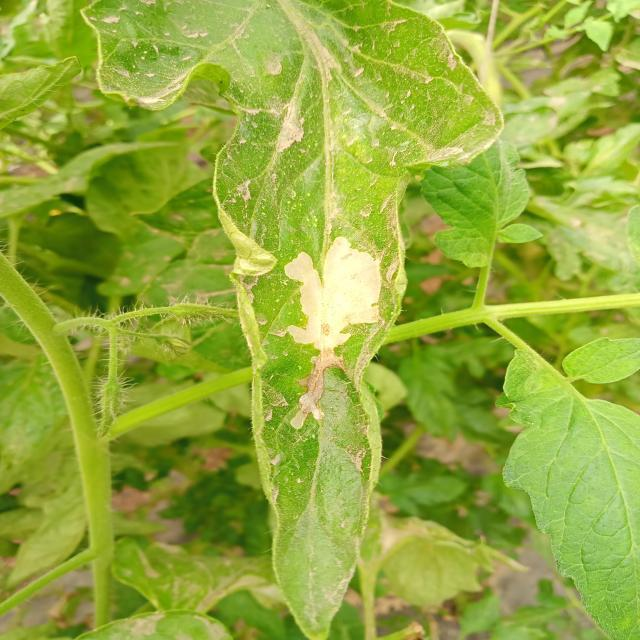Tuta absoluta: (283, 235, 384, 354), (281, 342, 350, 437)
